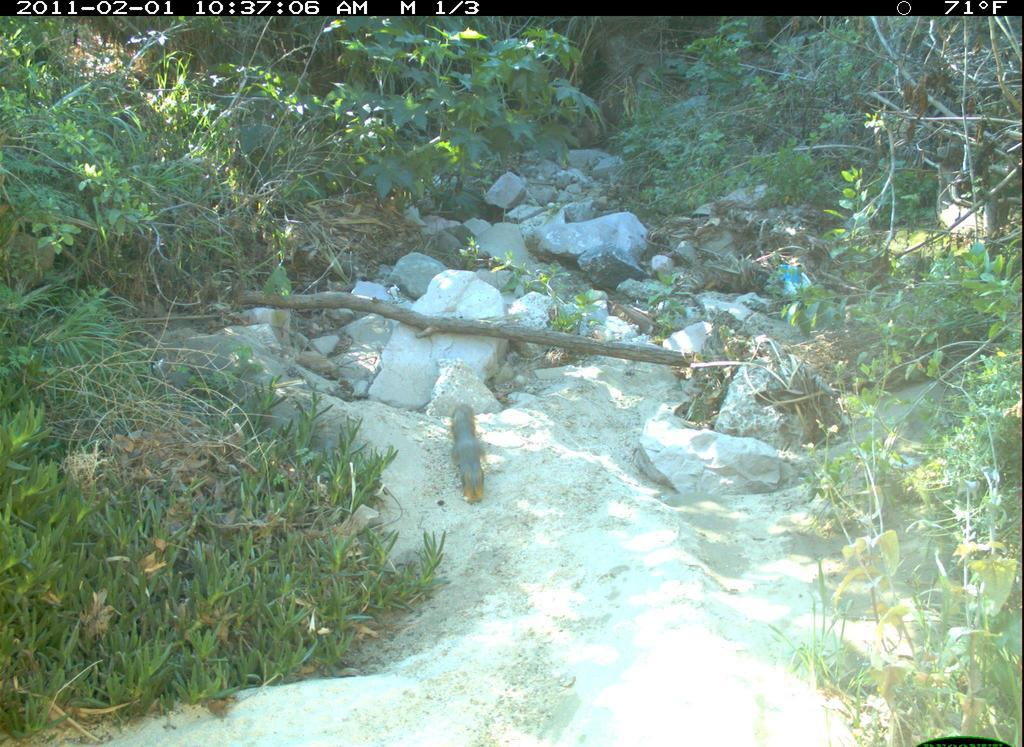squirrel: (438, 396, 502, 513)
